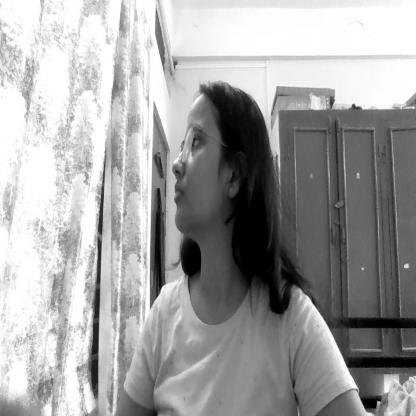Distracted: (169, 94, 255, 253)
